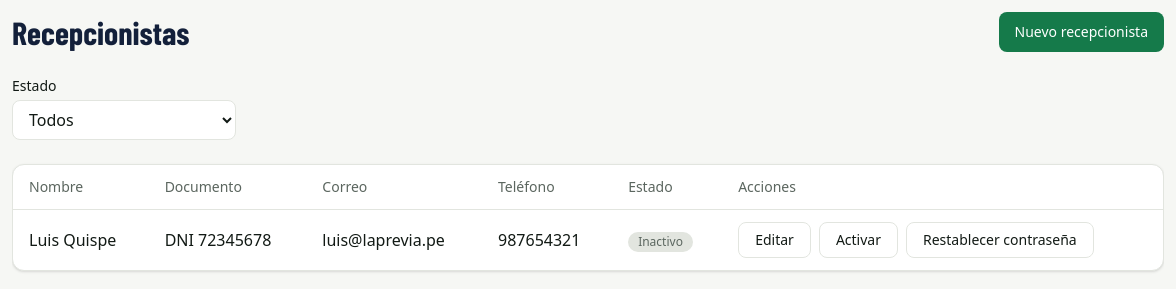
Test: Recepcionistas › activa sin pedir confirmación y avisa con un Toast de éxito
The width and height of the screenshot is (1176, 289).
Click the button "Activar".
click(858, 240)  # box [819,222,898,258]
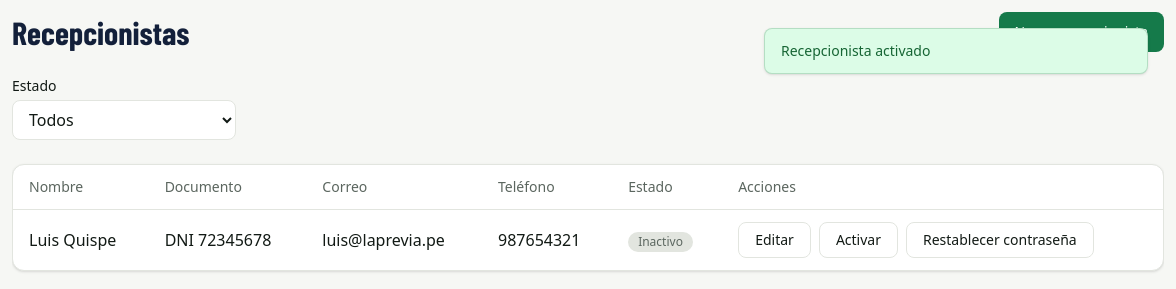
Now the message reads "Recepcionista activado", box [781,41,930,60]
